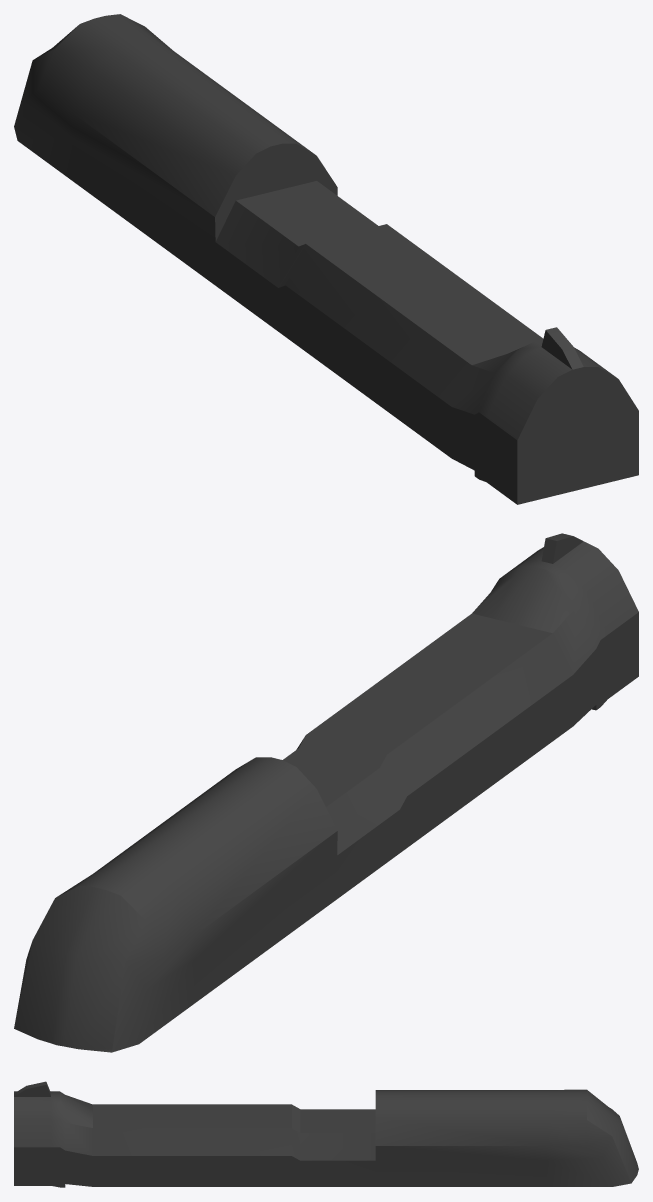
File: PistolSlide.obj
3 renders of one model, top to bottom at view 1: azimuth 30°, elevation 25°; view 2: azimuth 150°, elevation 25°; view 3: azimuth 270°, elevation 25°, orthographic. The views are drawn at different scales.
Visible parts, largest first — view 1: Pistol.001; view 2: Pistol.001; view 3: Pistol.001.
Part boxes in pixels (x1,y1,x2,y2): Pistol.001: [14, 14, 638, 504]; Pistol.001: [14, 533, 638, 1052]; Pistol.001: [14, 1081, 638, 1187].
Bounding box in the file's own units: 1.61 × 1.81 × 11.84.
1 material, 1 textured.
